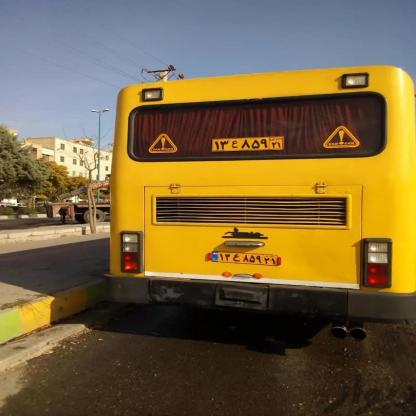Bus: (108, 55, 416, 327)
